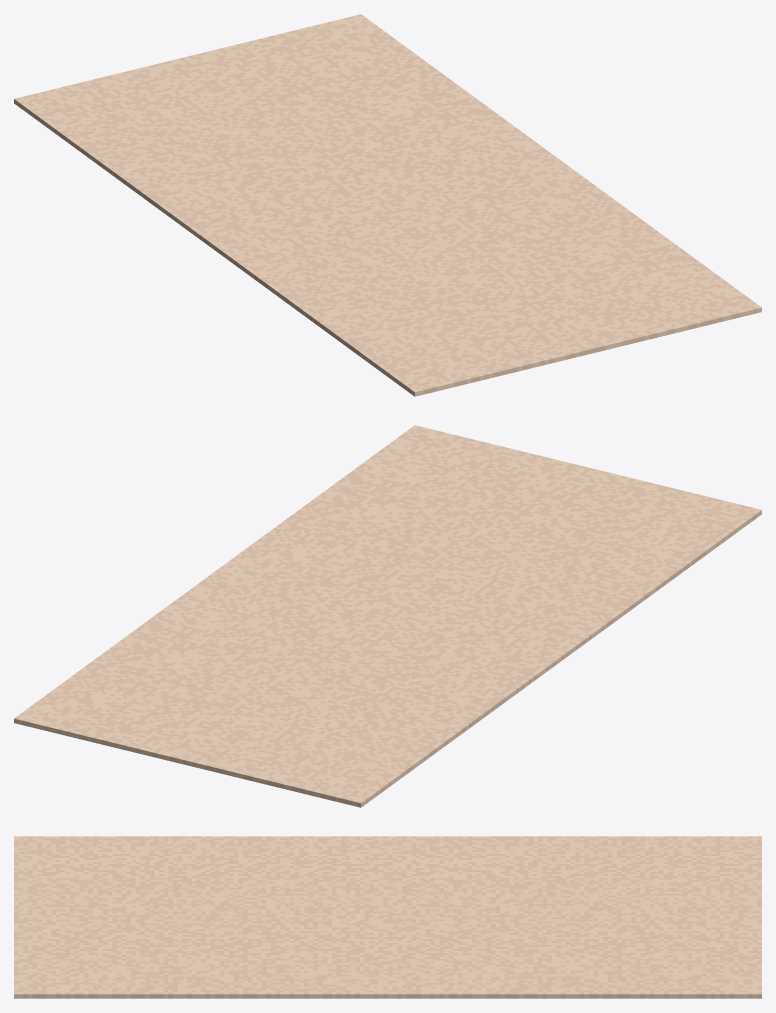
Rendered from floor_02_XL.glb.
3 renders of one model, top to bottom at view 1: azimuth 30°, elevation 25°; view 2: azimuth 150°, elevation 25°; view 3: azimuth 270°, elevation 25°, orthographic. The views are drawn at different scales.
Parts seen in each view (by area): view 1: Untitled; view 2: Untitled; view 3: Untitled.
Boxes of the visible parts, x1,y1,x2,y2 form: Untitled: (14, 14, 761, 396); Untitled: (14, 425, 761, 807); Untitled: (14, 836, 761, 998).
Bounding box in the file's own units: 2.4 × 0.03 × 4.8.
1 material, 1 textured.
